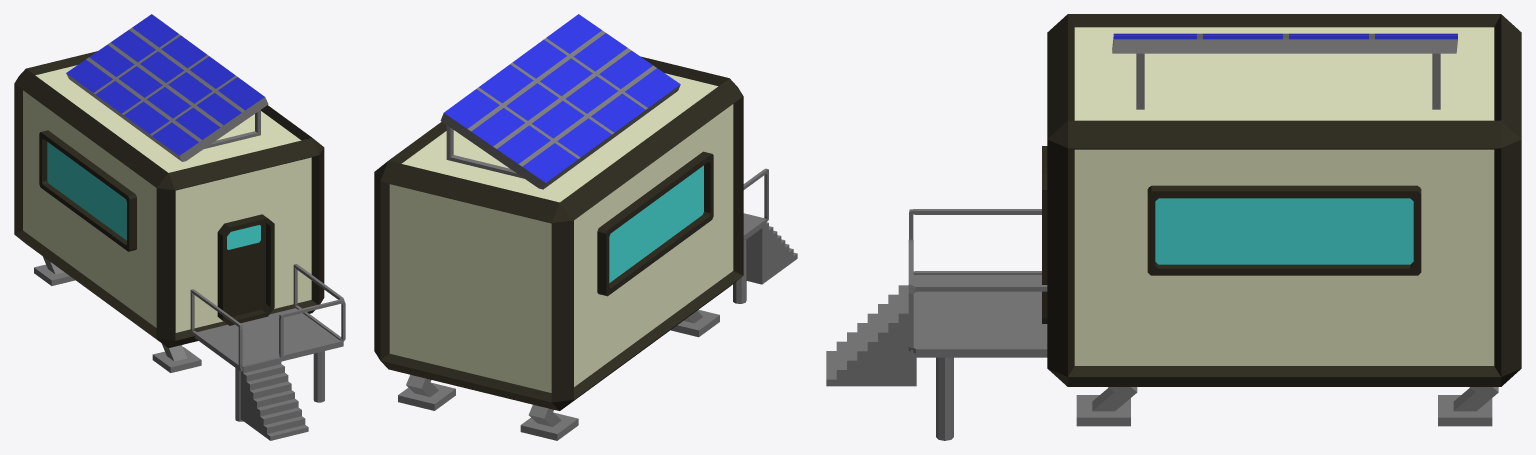
The model's file is Mesh_Build_House.fbx.
3 renders of one model, left to right at view 1: azimuth 30°, elevation 25°; view 2: azimuth 150°, elevation 25°; view 3: azimuth 270°, elevation 25°, orthographic. The views are drawn at different scales.
Parts seen in each view (by area): view 1: HouseWall, House, SolarPanel, Door.001, Plateform, Stairs, Barriere1, Barriere2, Foot, Pole, Foot.001, SolarPanel_Support; view 2: HouseWall, House, SolarPanel, Stairs, Foot.001, Foot.002, Foot, SolarPanel_Support.001, Barriere2, Pole.001; view 3: HouseWall, House, Plateform, SolarPanel, Stairs, Barriere1, Foot.003, Foot.002, Pole, Barriere2, Door.001.
Boxes of the visible parts, left/top/right/bottom form: HouseWall: left=23, top=65, right=311, bottom=332; House: left=14, top=51, right=324, bottom=348; SolarPanel: left=66, top=14, right=268, bottom=161; Door.001: left=217, top=214, right=274, bottom=325; Plateform: left=194, top=308, right=343, bottom=371; Stairs: left=240, top=357, right=308, bottom=440; Barriere1: left=279, top=264, right=345, bottom=358; Barriere2: left=190, top=289, right=242, bottom=368; Foot: left=152, top=343, right=201, bottom=372; Pole: left=313, top=351, right=324, bottom=402; Foot.001: left=34, top=256, right=75, bottom=285; SolarPanel_Support: left=204, top=110, right=260, bottom=148; HouseWall: left=389, top=73, right=733, bottom=392; House: left=374, top=56, right=743, bottom=410; SolarPanel: left=440, top=14, right=680, bottom=189; Stairs: left=744, top=213, right=797, bottom=284; Foot.001: left=520, top=404, right=578, bottom=440; Foot.002: left=398, top=375, right=455, bottom=410; Foot: left=671, top=309, right=719, bottom=337; SolarPanel_Support.001: left=446, top=125, right=523, bottom=178; Barriere2: left=743, top=168, right=768, bottom=238; Pole.001: left=733, top=239, right=746, bottom=303; HouseWall: left=1074, top=27, right=1494, bottom=365; House: left=1047, top=14, right=1521, bottom=386; Plateform: left=911, top=275, right=1047, bottom=357; SolarPanel: left=1112, top=33, right=1457, bottom=53; Stairs: left=826, top=285, right=916, bottom=386; Barriere1: left=908, top=239, right=1047, bottom=353; Foot.003: left=1076, top=387, right=1137, bottom=426; Foot.002: left=1438, top=387, right=1498, bottom=426; Pole: left=936, top=357, right=953, bottom=440; Barriere2: left=909, top=209, right=1041, bottom=274; Door.001: left=1042, top=146, right=1047, bottom=323.
Bounding box in the file's own units: 329 × 487 × 770.
